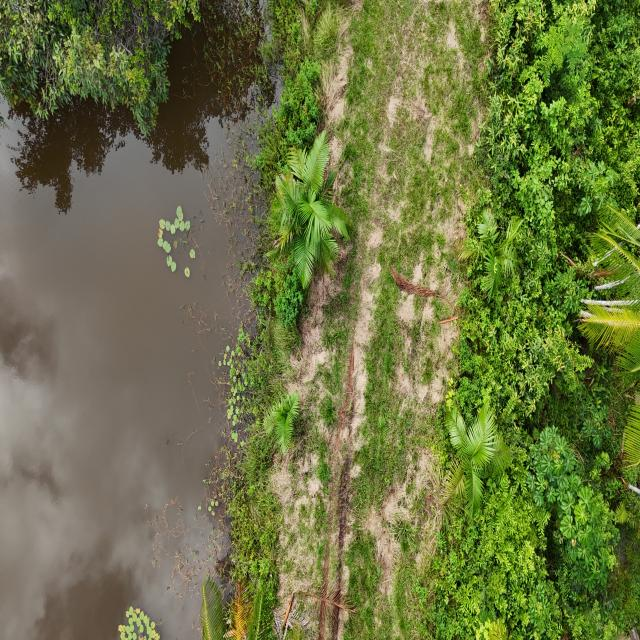vegetation: (268, 129, 351, 290)
